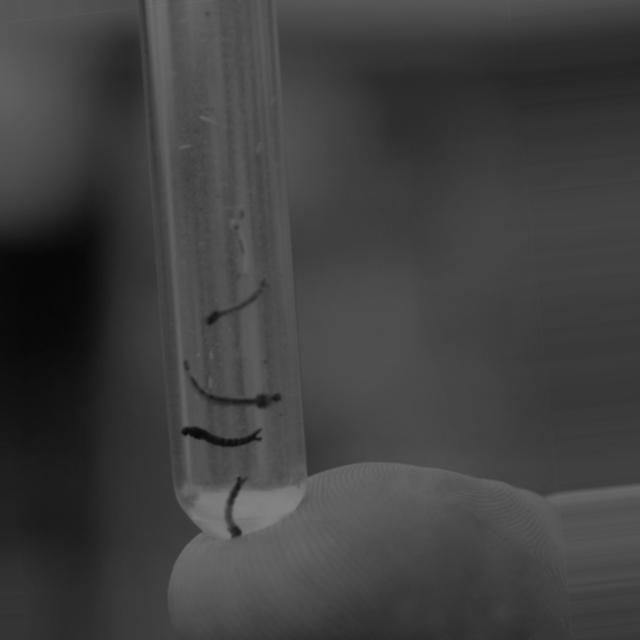larvas: (183, 356, 278, 407), (197, 278, 266, 326), (221, 468, 250, 536), (179, 426, 262, 449), (232, 208, 250, 256)
